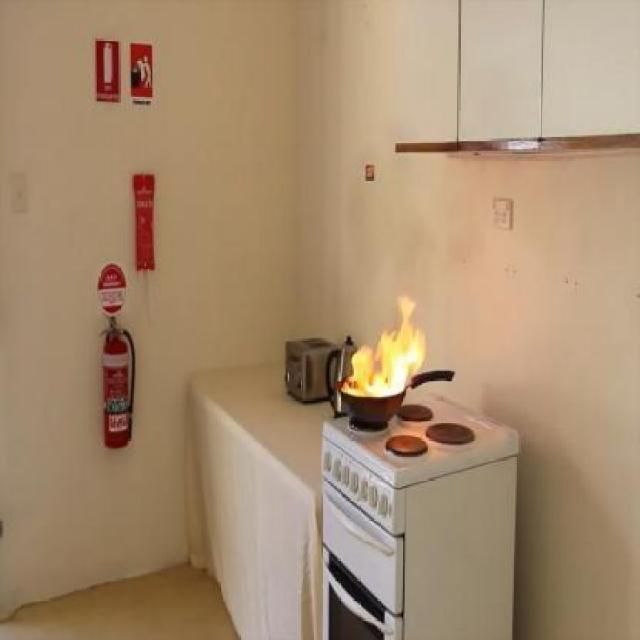fire: (343, 297, 426, 397)
